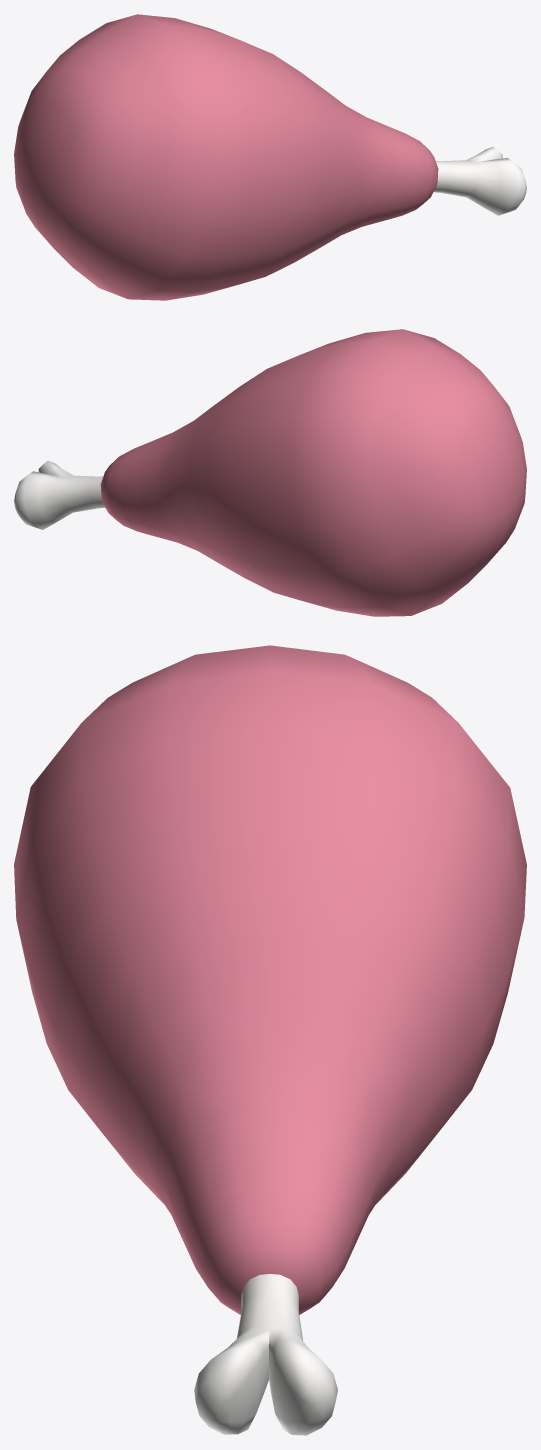
File: Meet_full.glb
3 views of the same model, one above another, from view 1: azimuth 30°, elevation 25°; view 2: azimuth 150°, elevation 25°; view 3: azimuth 270°, elevation 25° (orthographic). The views are drawn at different scales.
Parts seen in each view (by area): view 1: Ham_1; view 2: Ham_1; view 3: Ham_1.
Boxes of the visible parts, bbox=[...] form: Ham_1: bbox=[14, 14, 526, 300]; Ham_1: bbox=[14, 329, 526, 616]; Ham_1: bbox=[14, 645, 526, 1435].
Bounding box in the file's own units: 0.7625 × 0.3954 × 0.3878.
1 material, 1 textured.
